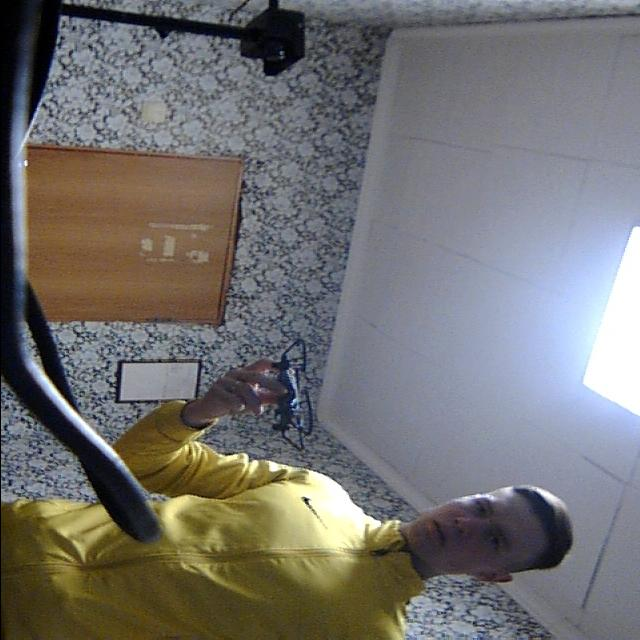drone: (260, 336, 332, 462)
